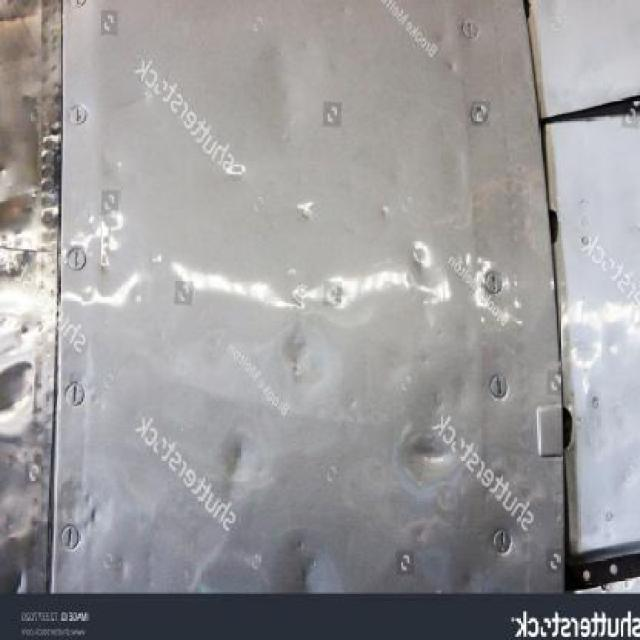dent: (396, 436, 450, 464), (222, 431, 250, 485)
